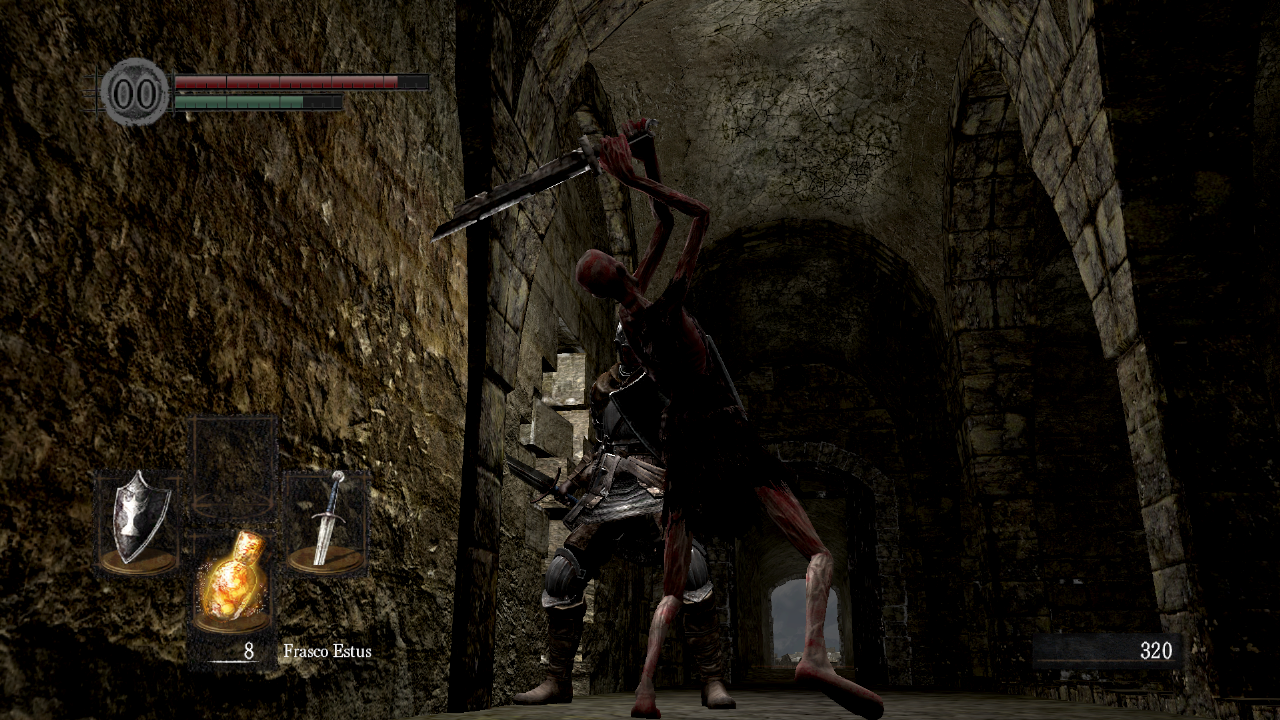hollow: (575, 116, 885, 720)
player: (507, 317, 737, 709)
